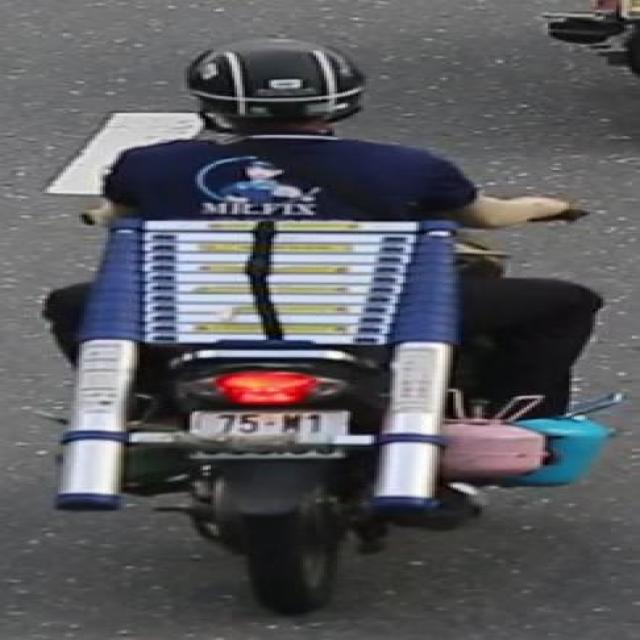helmet: (180, 34, 378, 145)
